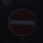No entry: (6, 6, 38, 38)
